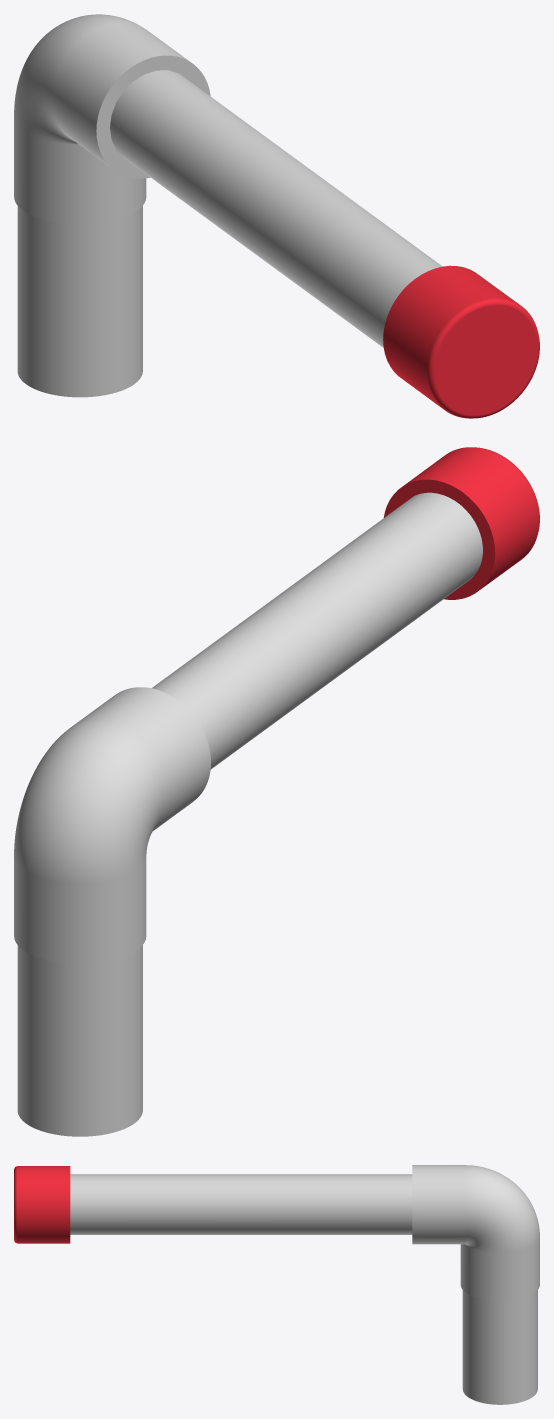
The model's file is docking_button_visual.dae.
3 renders of one model, top to bottom at view 1: azimuth 30°, elevation 25°; view 2: azimuth 150°, elevation 25°; view 3: azimuth 270°, elevation 25°, orthographic. The views are drawn at different scales.
Parts seen in each view (by area): view 1: Worlds Button; view 2: Worlds Button; view 3: Worlds Button.
Boxes of the visible parts, box(x1,y1,x2,y2) form: Worlds Button: box(14, 14, 539, 418); Worlds Button: box(14, 447, 539, 1136); Worlds Button: box(14, 1165, 539, 1404).
Bounding box in the file's own units: 0.0286 × 0.1895 × 0.0875.
